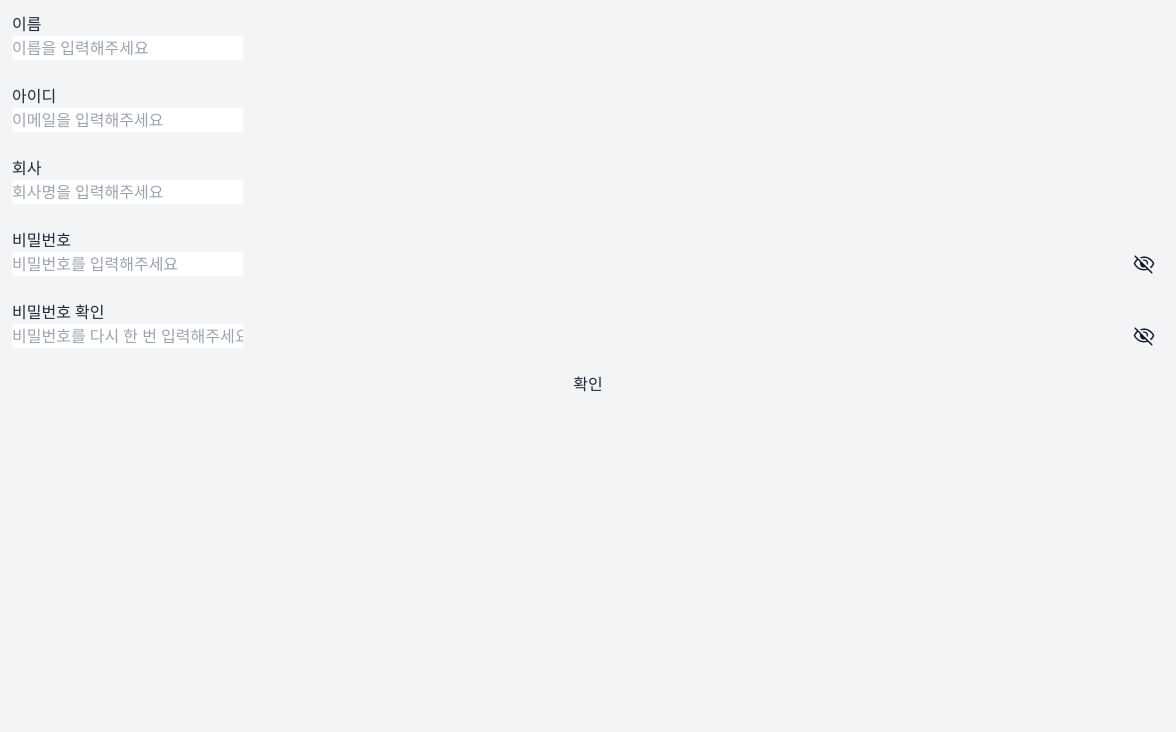
Test: 회원가입 폼 › 유효성 검사 실패 › 잘못된 이메일 형식 테스트
In the field with placeholder "이메일을 입력해주세요": (128, 120) x1=12 y1=108 x2=243 y2=132, type "invalid-email"
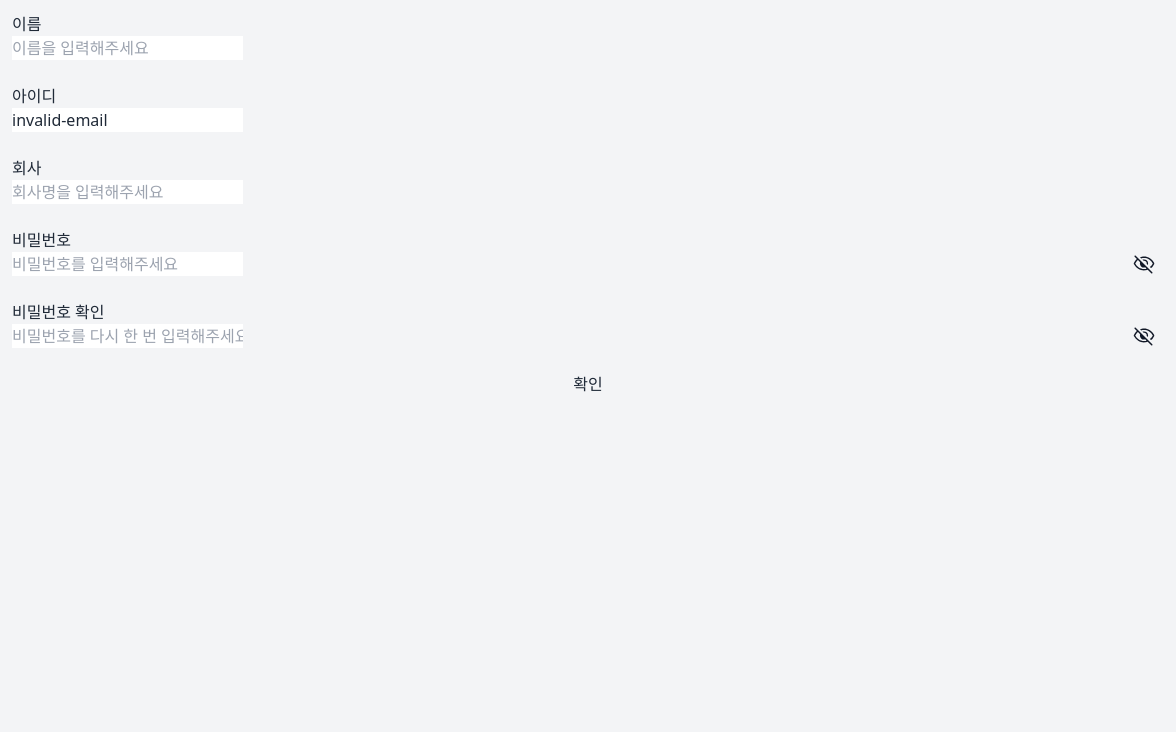
Submit the form from the button "확인", box x1=12 y1=372 x2=1164 y2=396
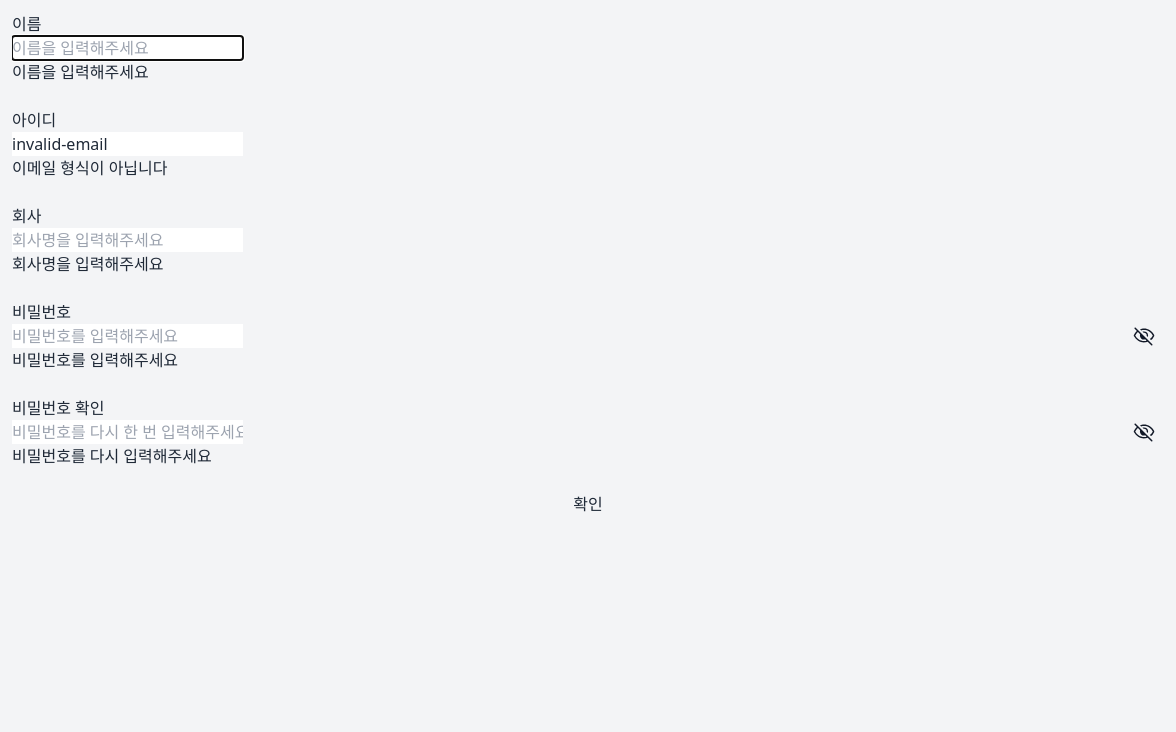
Now the text "이메일 형식이 아닙니다" is shown, box x1=12 y1=157 x2=168 y2=179
